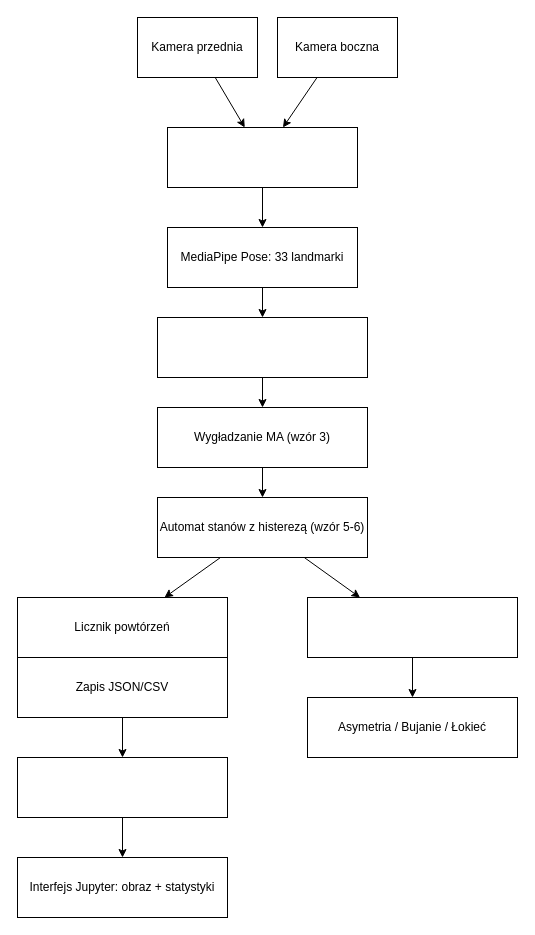
Image size: 535x935. Some labels were removed from this diagram. Each missing label, with the centre of its shape:
"Detekcja błędów formy" belongs at point (412, 627).
"Ekstrakcja kątów łokcia (wzór 1-4)" belongs at point (262, 347).
"TTS: Vosk → komenda głosowa" belongs at point (122, 787).
"YOLO: detekcja osoby → ROI" belongs at point (262, 157).
